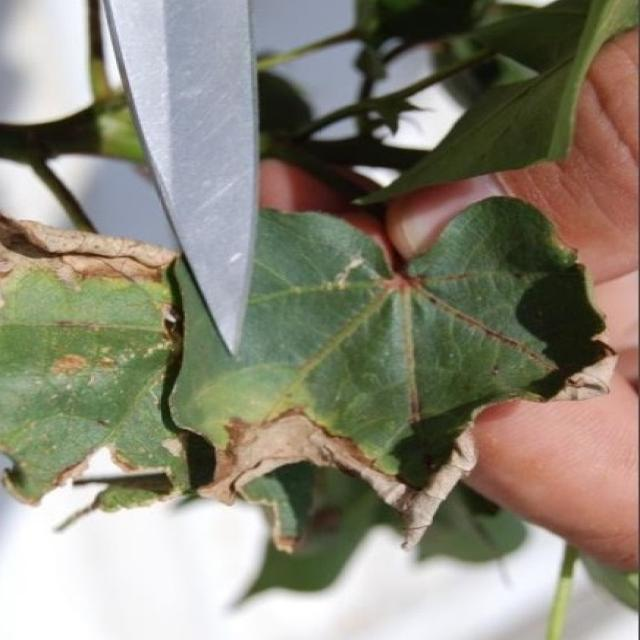Fusarium Wilt: (137, 346, 454, 540)
